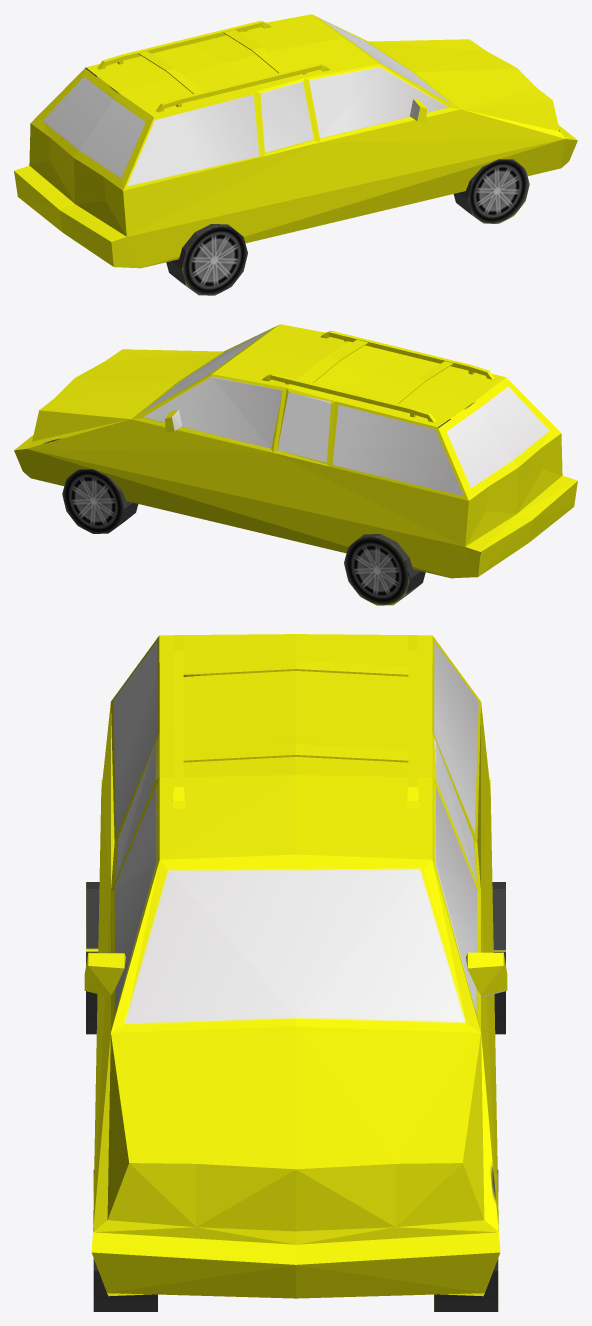
The model's file is car3.obj.
The picture shows the model from 3 angles, top to bottom: view 1: azimuth 30°, elevation 25°; view 2: azimuth 150°, elevation 25°; view 3: azimuth 270°, elevation 25°; orthographic projection. The views are drawn at different scales.
Visible parts, largest first — view 1: vehicleWagon_02_GEO_Cube.055; view 2: vehicleWagon_02_GEO_Cube.055; view 3: vehicleWagon_02_GEO_Cube.055.
Boxes of the visible parts, <box> form: vehicleWagon_02_GEO_Cube.055: <box>14,14,577,295</box>; vehicleWagon_02_GEO_Cube.055: <box>14,324,577,605</box>; vehicleWagon_02_GEO_Cube.055: <box>84,634,507,1311</box>.
Bounding box in the file's own units: 0.3003 × 0.1124 × 0.116.
Materials: 1 (1 with a texture image).
